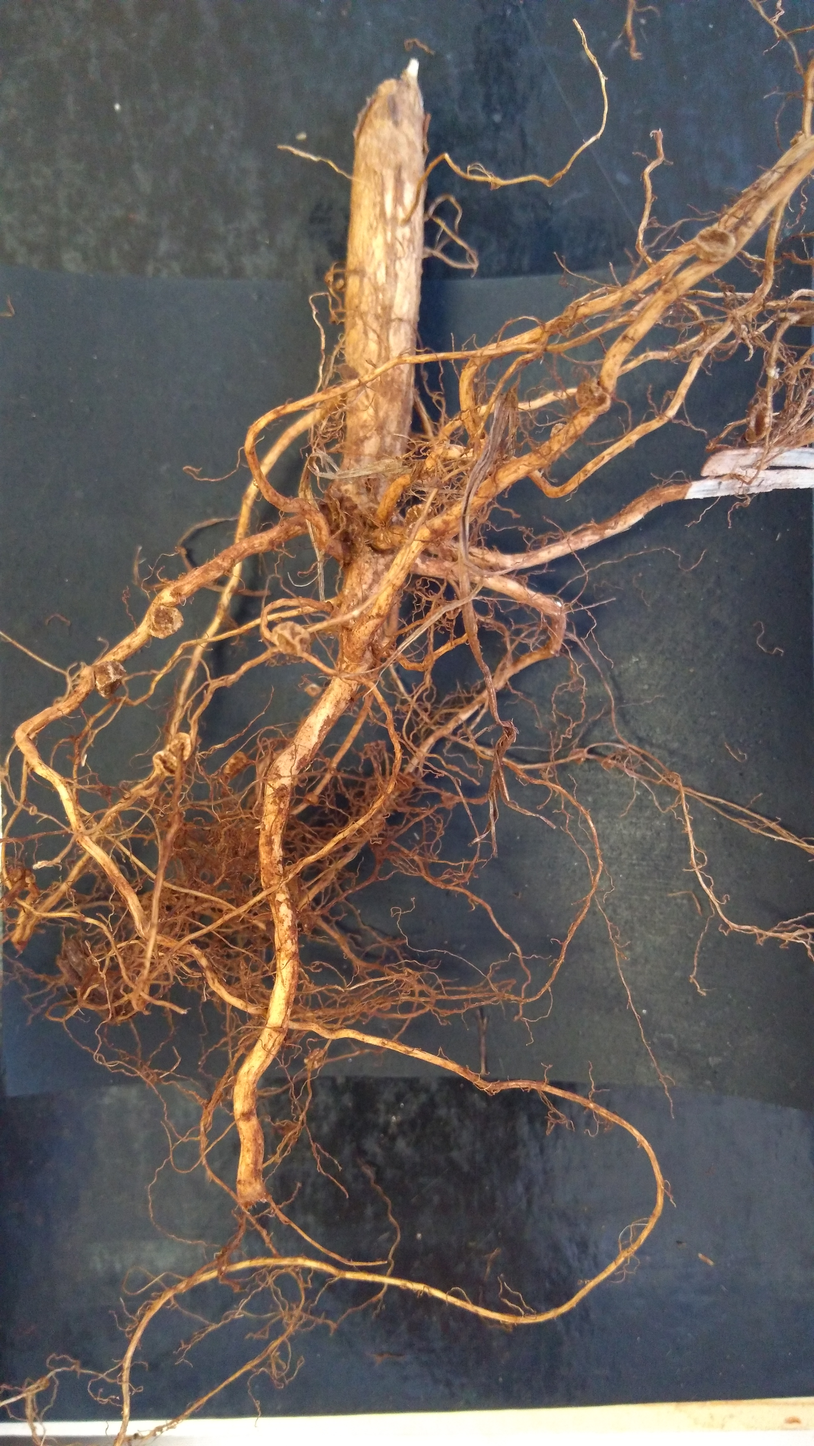nodule: (269, 618, 316, 663), (692, 225, 738, 264), (145, 602, 188, 642), (90, 659, 131, 700), (573, 381, 613, 417), (402, 500, 440, 532), (147, 748, 185, 780), (168, 728, 196, 765), (220, 749, 252, 780), (299, 1044, 328, 1071), (302, 681, 326, 701), (303, 789, 322, 809), (440, 793, 456, 809), (550, 422, 567, 436), (27, 804, 38, 816)
